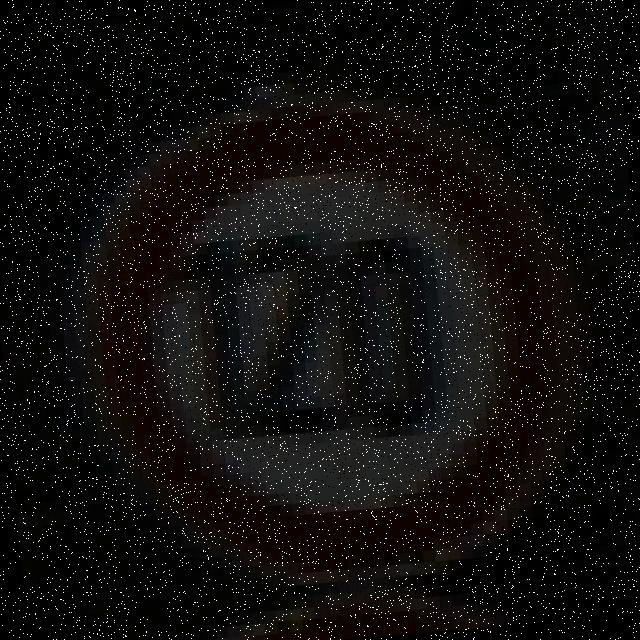Ograniczenie predkosci do 120: (74, 83, 576, 593)
